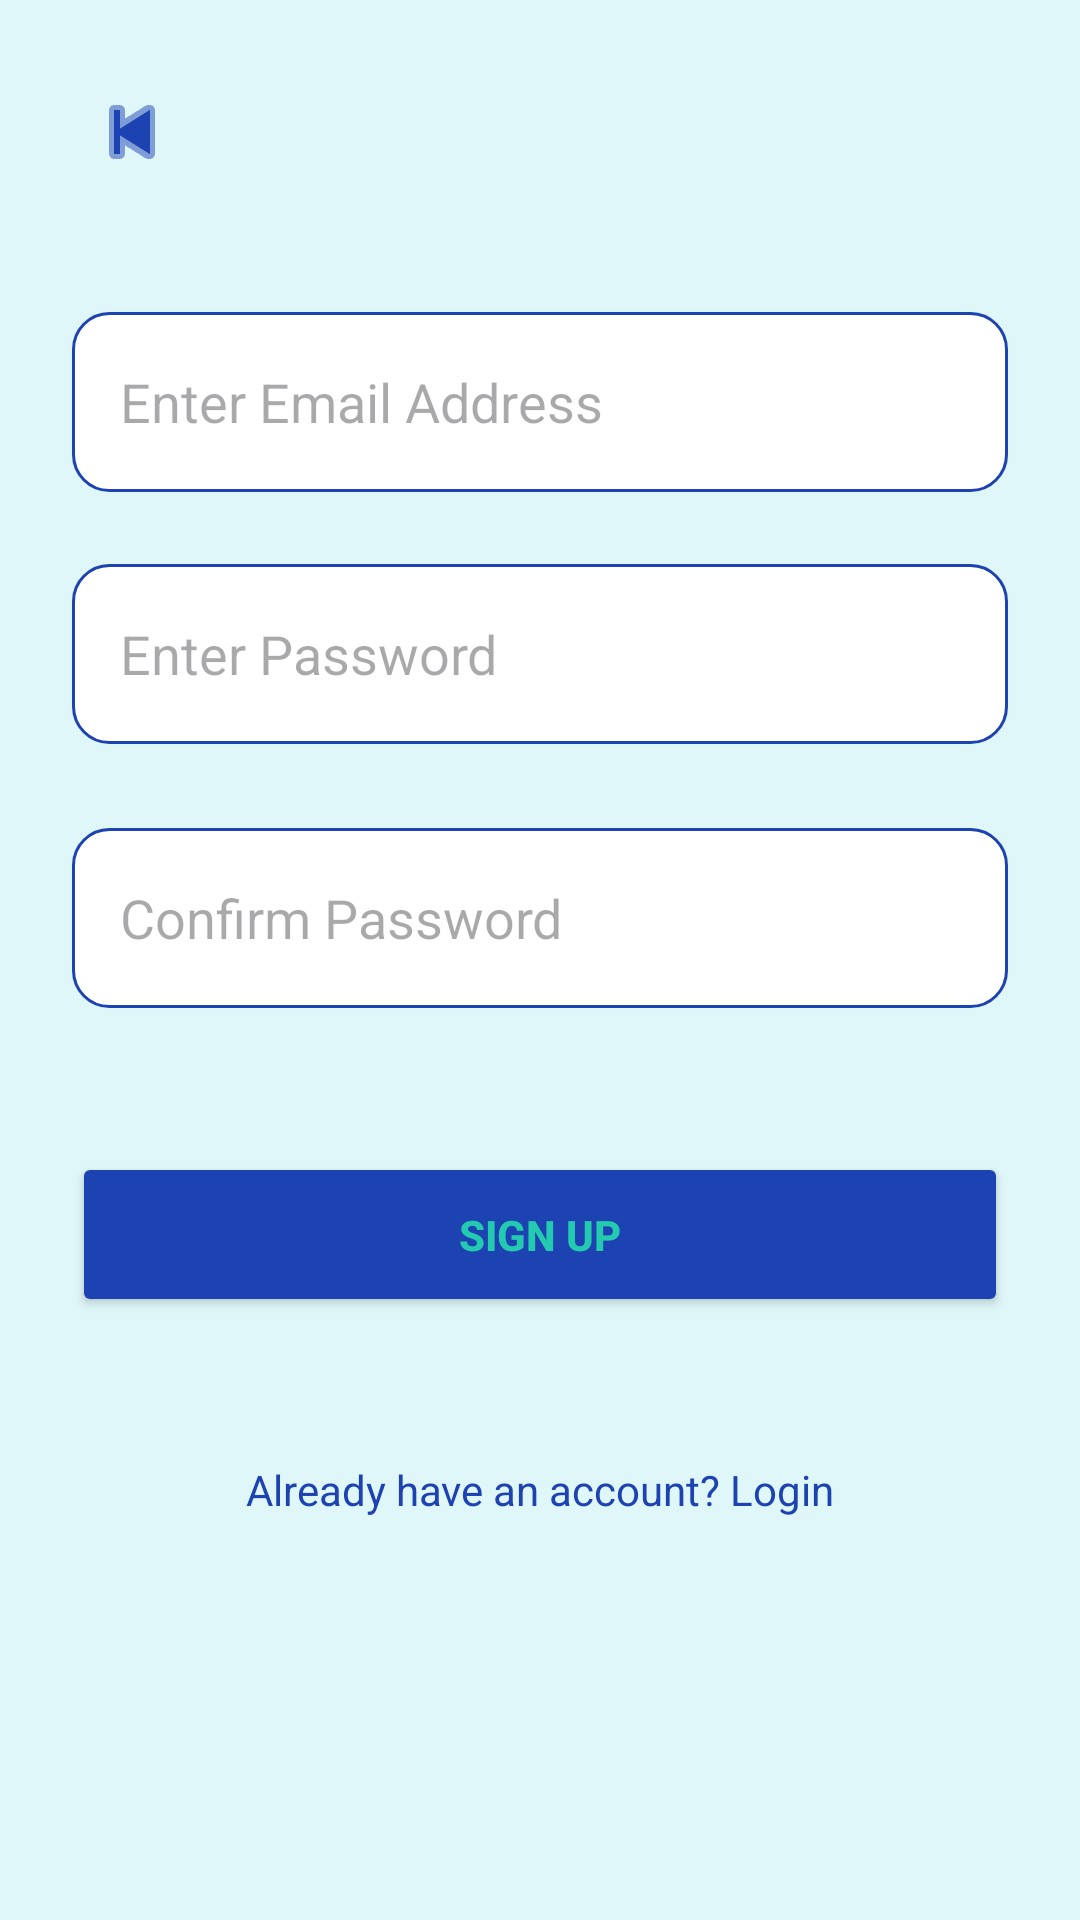

Where icons sit on this 1080 x 1920 app screen, as (x1, y1, x2, y2):
Back: (109, 105, 155, 159)
